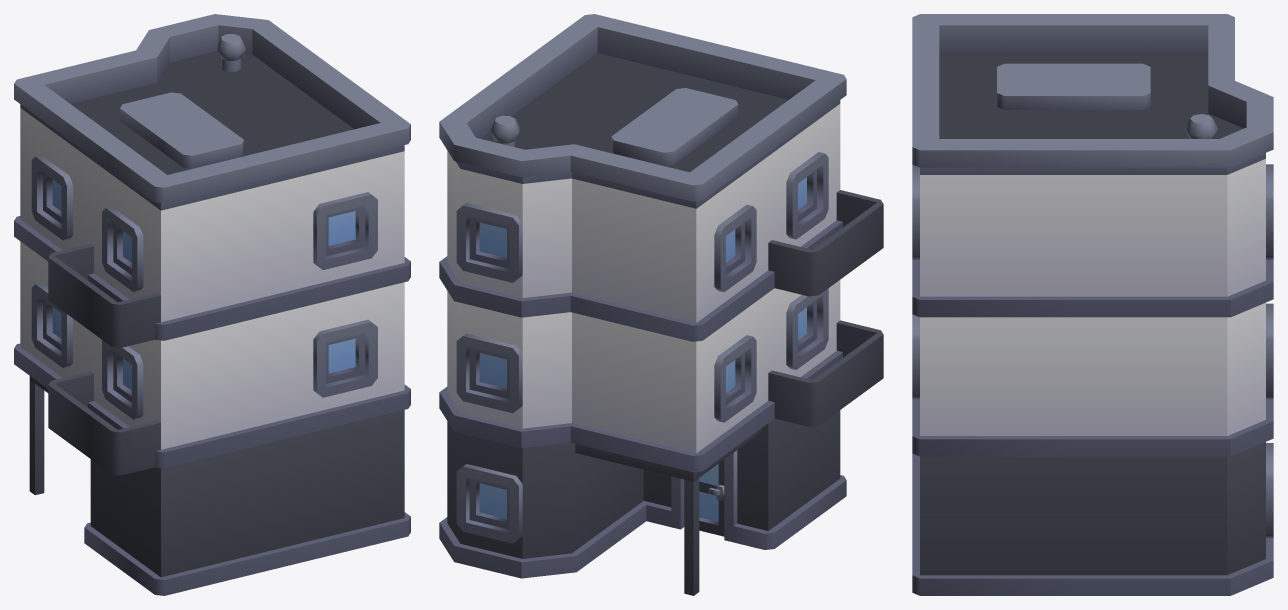
The model's file is k_c_building-b.glb.
The picture shows the model from 3 angles, left to right: view 1: azimuth 30°, elevation 25°; view 2: azimuth 150°, elevation 25°; view 3: azimuth 270°, elevation 25°; orthographic projection. The views are drawn at different scales.
Parts seen in each view (by area): view 1: building-b; view 2: building-b; view 3: building-b.
Boxes of the visible parts, box(x1,y1,x2,y2) form: building-b: box(14, 14, 410, 595); building-b: box(439, 14, 883, 595); building-b: box(912, 14, 1273, 595).
Size of the model in its own units: 0.97 by 1.29 by 0.94.
1 material, 1 textured.
